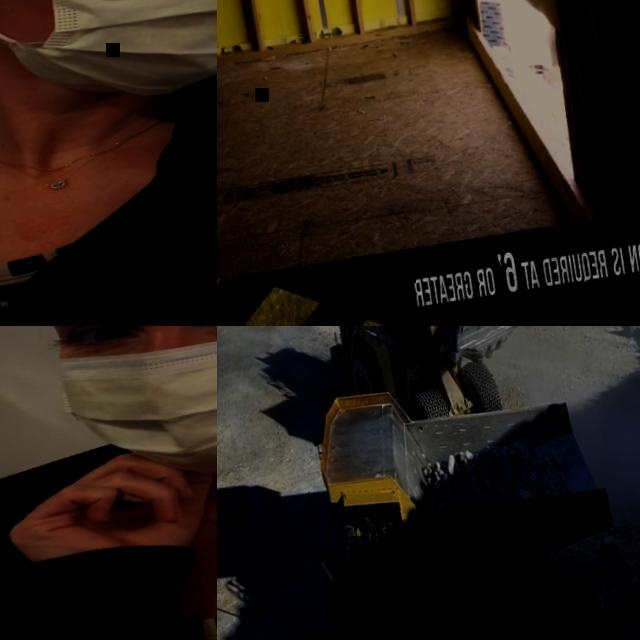Mask: (0, 0, 217, 123), (56, 326, 217, 488)
NO-Safety Vest: (0, 54, 217, 326), (0, 415, 217, 640)
Person: (0, 0, 217, 326), (0, 326, 217, 640)
machinery: (287, 348, 640, 640), (315, 326, 559, 432)
